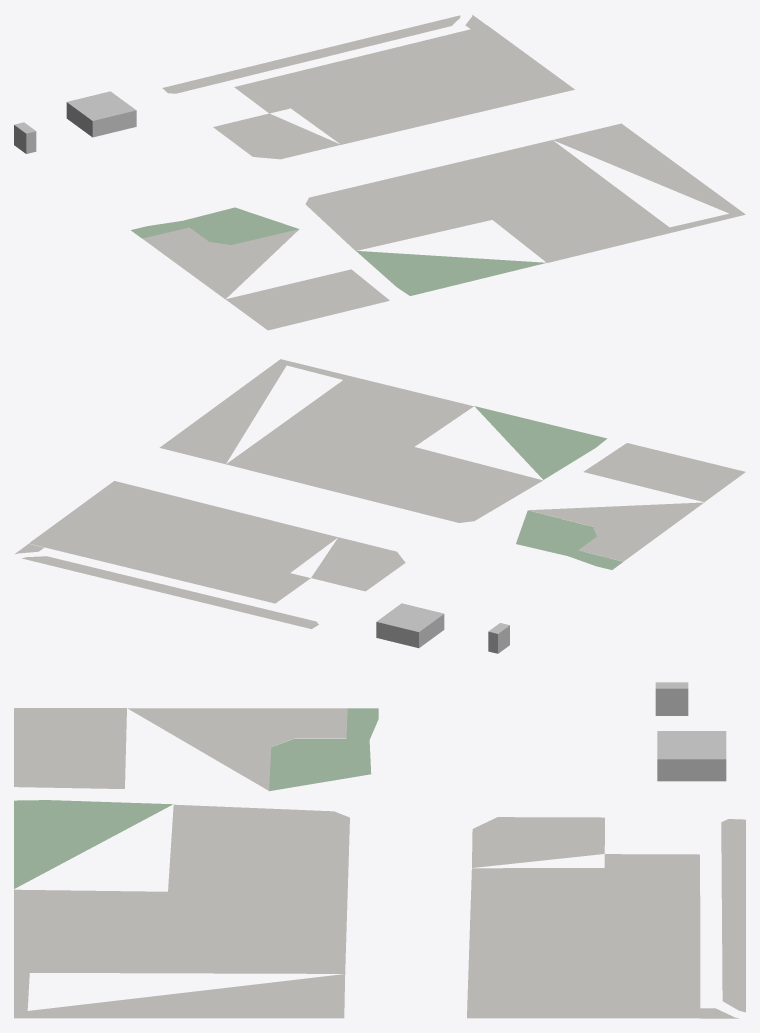
File: 101_103_mid.glb
3 views of the same model, one above another, from view 1: azimuth 30°, elevation 25°; view 2: azimuth 150°, elevation 25°; view 3: azimuth 270°, elevation 25° (orthographic). The views are drawn at different scales.
Bounding box in the file's own units: 500 × 20.63 × 500.
